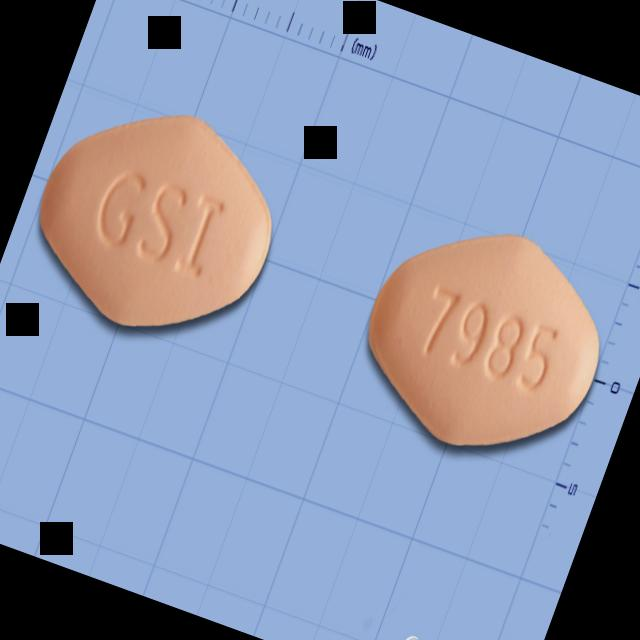Harvoni: (9, 77, 304, 366), (338, 195, 632, 484)
